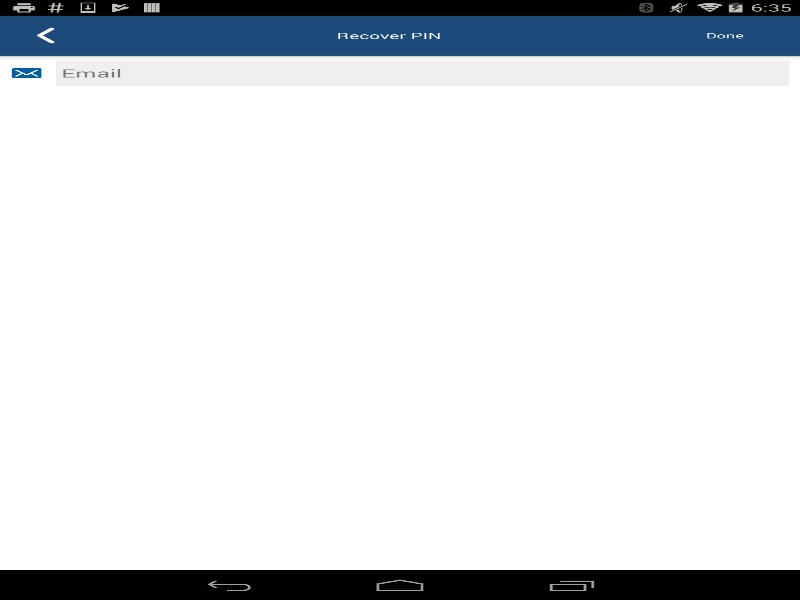Button: (34, 20, 152, 50), (626, 20, 744, 50)
Input: (56, 60, 757, 85)
